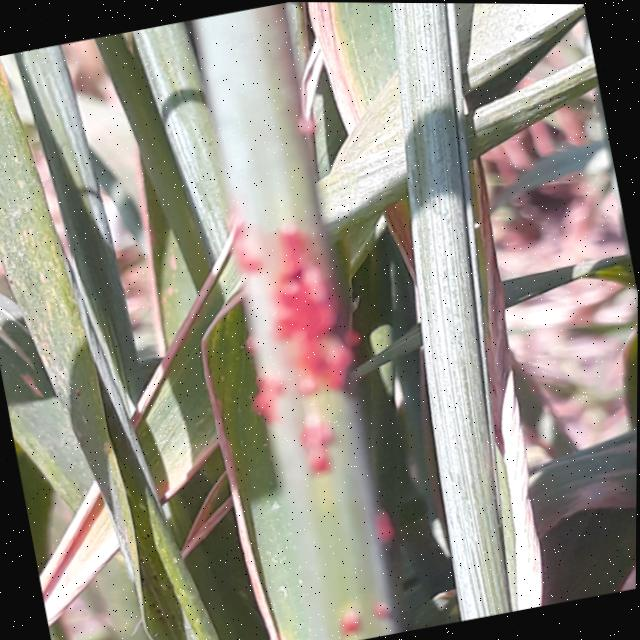black_stem_rust: (99, 1, 491, 640)
